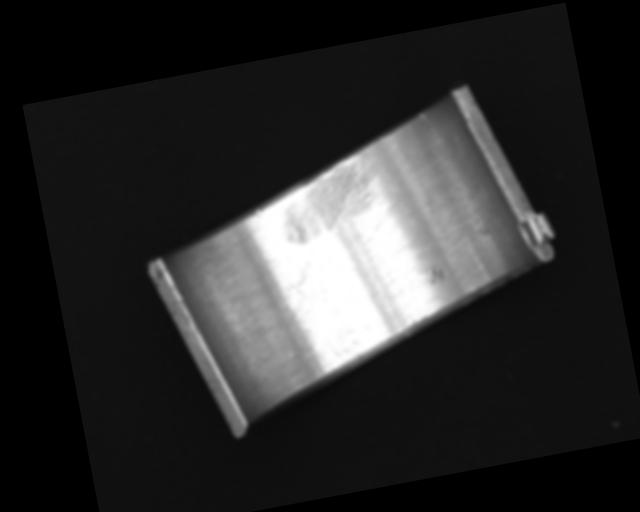blot: (275, 255, 331, 314)
bruise: (425, 264, 446, 286), (251, 208, 264, 218)
nick: (420, 110, 430, 124)
scratch: (273, 155, 390, 249)
